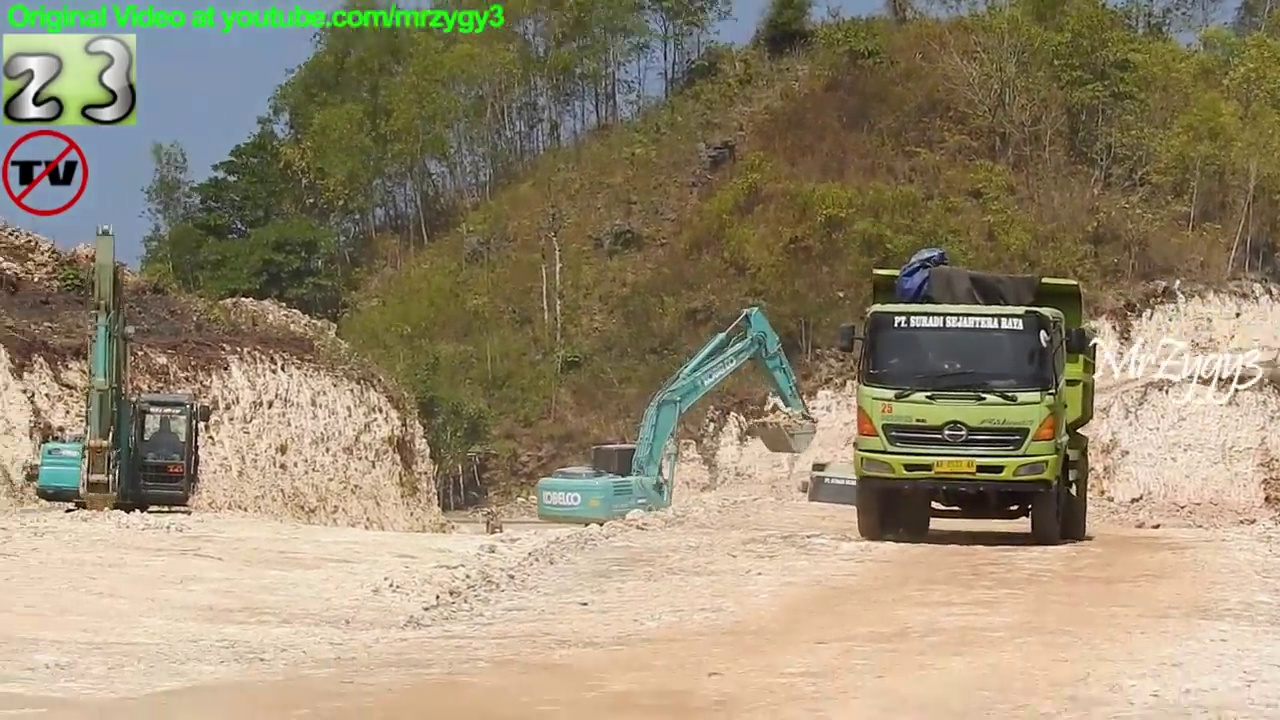excavator: (531, 299, 824, 554), (31, 216, 217, 552)
truck: (834, 264, 1105, 548), (795, 458, 912, 574)
